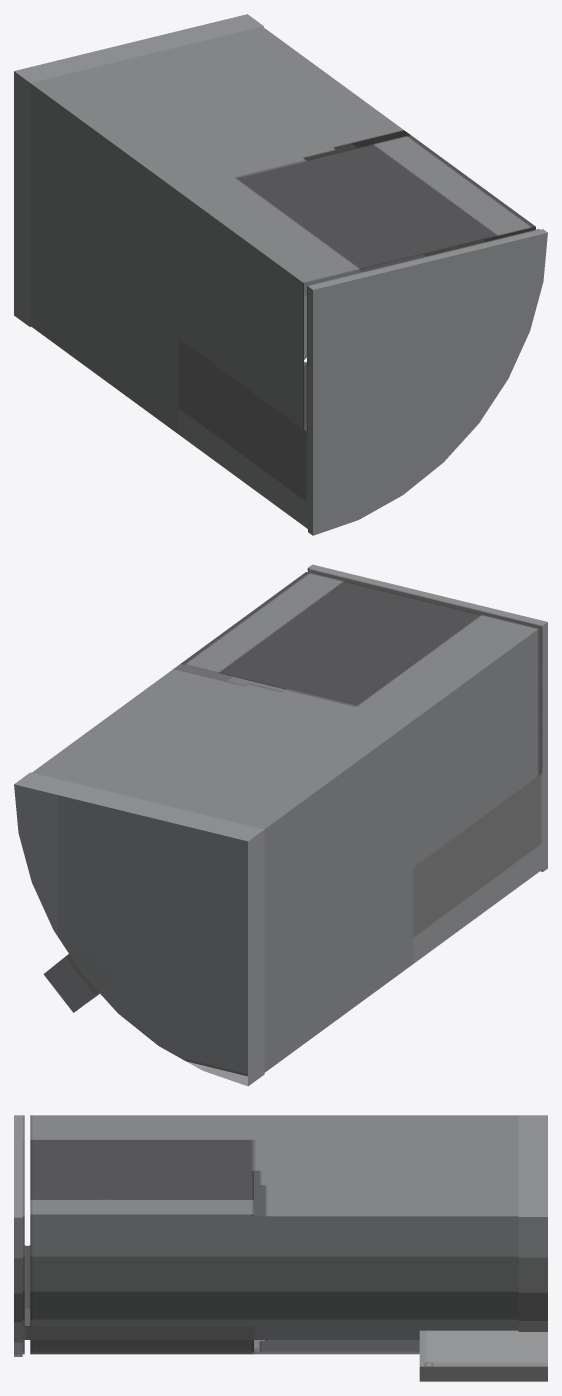
The picture shows the model from 3 angles, top to bottom: view 1: azimuth 30°, elevation 25°; view 2: azimuth 150°, elevation 25°; view 3: azimuth 270°, elevation 25°; orthographic projection. The views are drawn at different scales.
Size of the model in its own units: 0.83 by 0.83 by 1.83.
